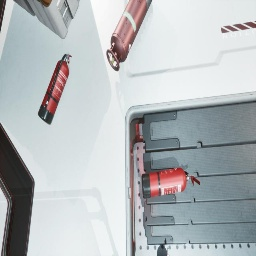0: (166, 246, 169, 256)
FireExtinguisher ]: (38, 53, 72, 125), (142, 168, 200, 199), (188, 174, 190, 176), (68, 60, 69, 62)
NitrogenTank ,: (106, 0, 152, 71)
